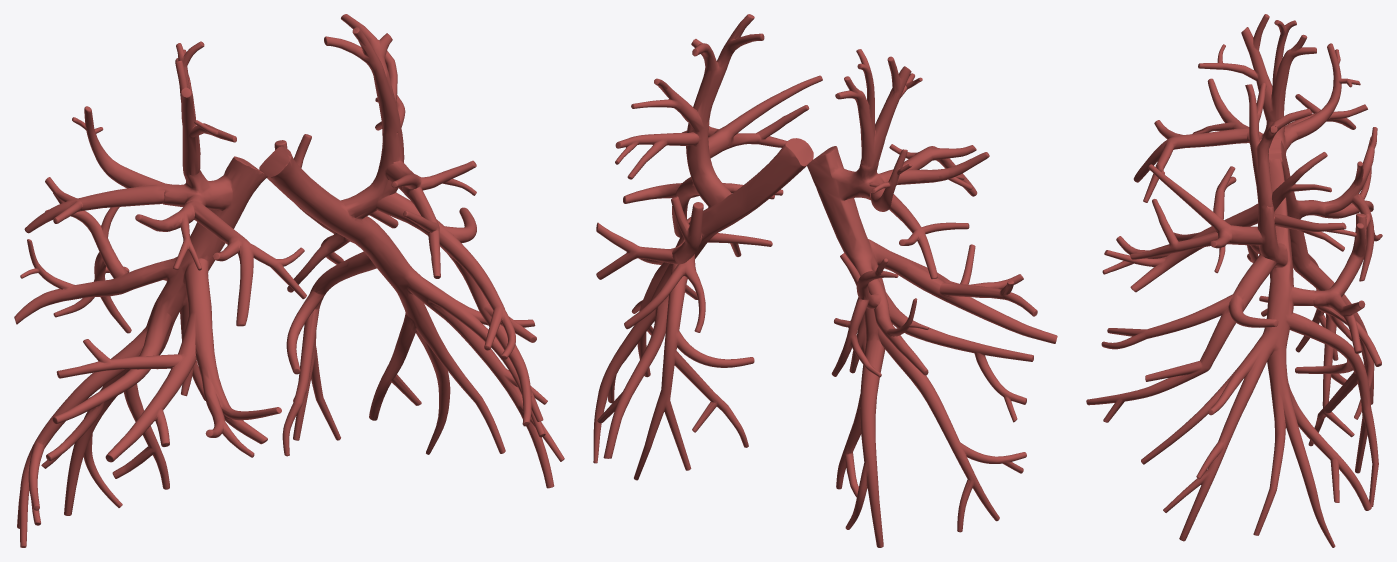
Rendered from lung7.fbx.
3 renders of one model, left to right at view 1: azimuth 30°, elevation 25°; view 2: azimuth 150°, elevation 25°; view 3: azimuth 270°, elevation 25°, orthographic. The views are drawn at different scales.
Parts seen in each view (by area): view 1: mesh; view 2: mesh; view 3: mesh.
Part boxes in pixels (x1,y1,x2,y2): mesh: [14, 14, 564, 547]; mesh: [593, 14, 1057, 547]; mesh: [1086, 14, 1382, 547].
Bounding box in the file's own units: 244 × 245 × 156.
